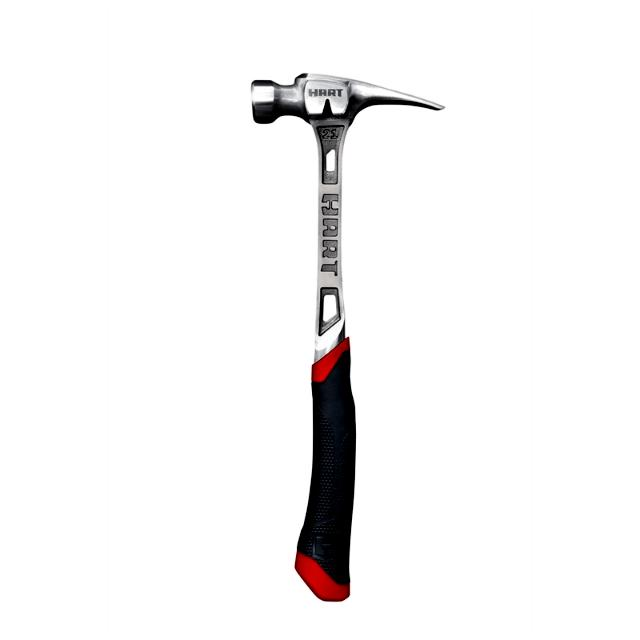hammer: (242, 64, 448, 608)
